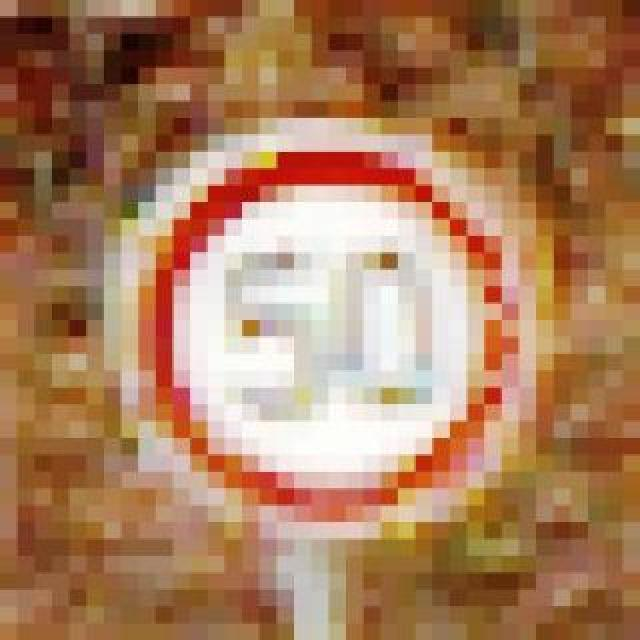50 kph: (86, 102, 518, 522)
